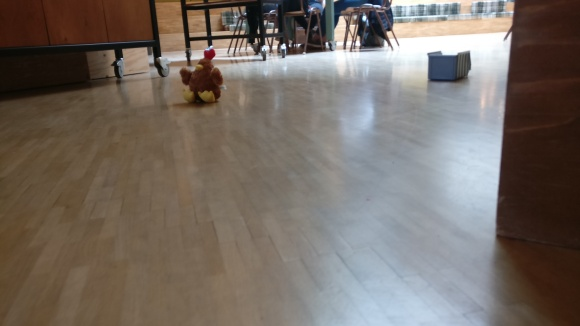chicken: (179, 44, 225, 106)
tray: (426, 49, 472, 83)
